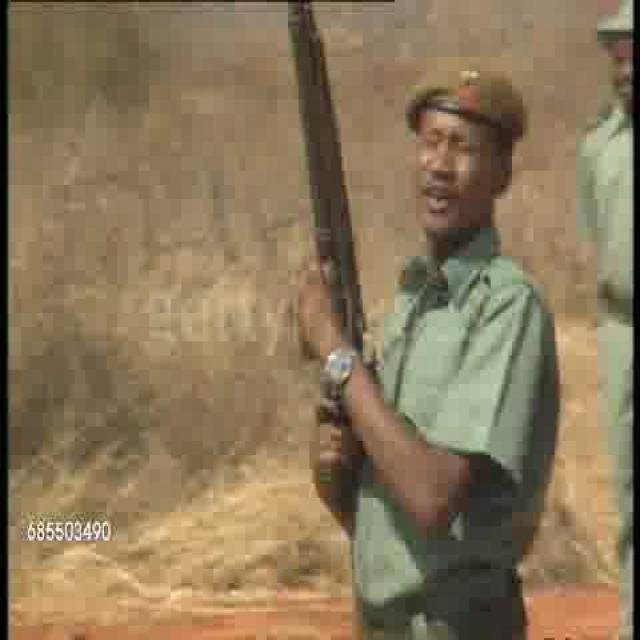poacher: (368, 51, 552, 630)
weapon: (284, 2, 384, 450)
